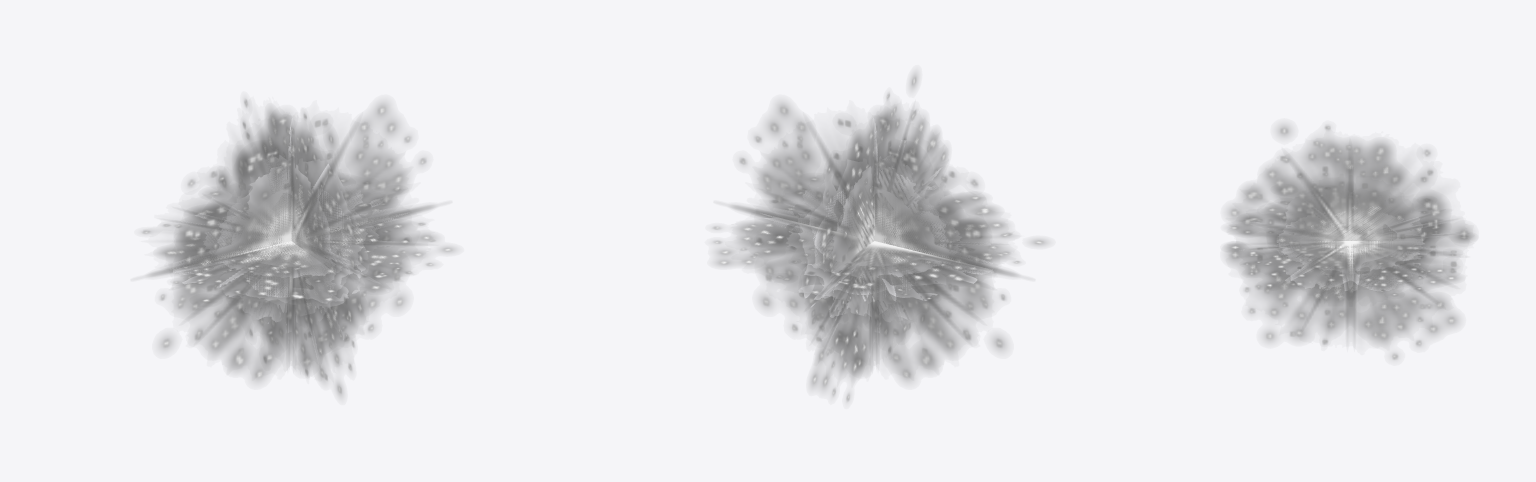
The model's file is si_eam_0310.glb.
3 renders of one model, left to right at view 1: azimuth 30°, elevation 25°; view 2: azimuth 150°, elevation 25°; view 3: azimuth 270°, elevation 25°, orthographic. The views are drawn at different scales.
Visible parts, largest first — view 1: layer_03_si_est_0200, layer_01_si_est_0003, layer_00_si_est_0001, layer_02_si_est_0006; view 2: layer_01_si_est_0003, layer_03_si_est_0200, layer_00_si_est_0001, layer_02_si_est_0006; view 3: layer_01_si_est_0003, layer_03_si_est_0200, layer_00_si_est_0001, layer_02_si_est_0006.
Part boxes in pixels (<box>): layer_03_si_est_0200: <box>142,99,454,395</box>; layer_01_si_est_0003: <box>173,125,408,357</box>; layer_00_si_est_0001: <box>198,138,408,355</box>; layer_02_si_est_0006: <box>148,205,434,276</box>; layer_01_si_est_0003: <box>755,127,992,356</box>; layer_03_si_est_0200: <box>713,74,1046,401</box>; layer_00_si_est_0001: <box>791,130,964,354</box>; layer_02_si_est_0006: <box>731,205,1017,276</box>; layer_01_si_est_0003: <box>1241,154,1455,329</box>; layer_03_si_est_0200: <box>1225,125,1474,359</box>; layer_00_si_est_0001: <box>1271,165,1440,326</box>; layer_02_si_est_0006: <box>1316,241,1382,294</box>.
Bounding box in the file's own units: 24 × 24 × 24.
4 materials, 4 textured.
